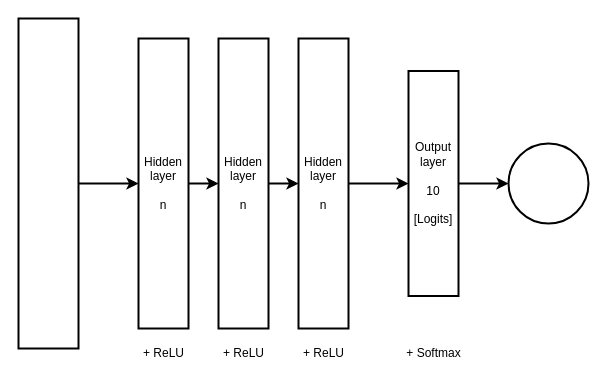
The diagram is 606 pixels wide and 385 high, and some of its shapes have lost their labels. Each missing label, with the centre of its shape:
Input layer 28*28: the point at 48,183
Prediction: the point at 548,183
